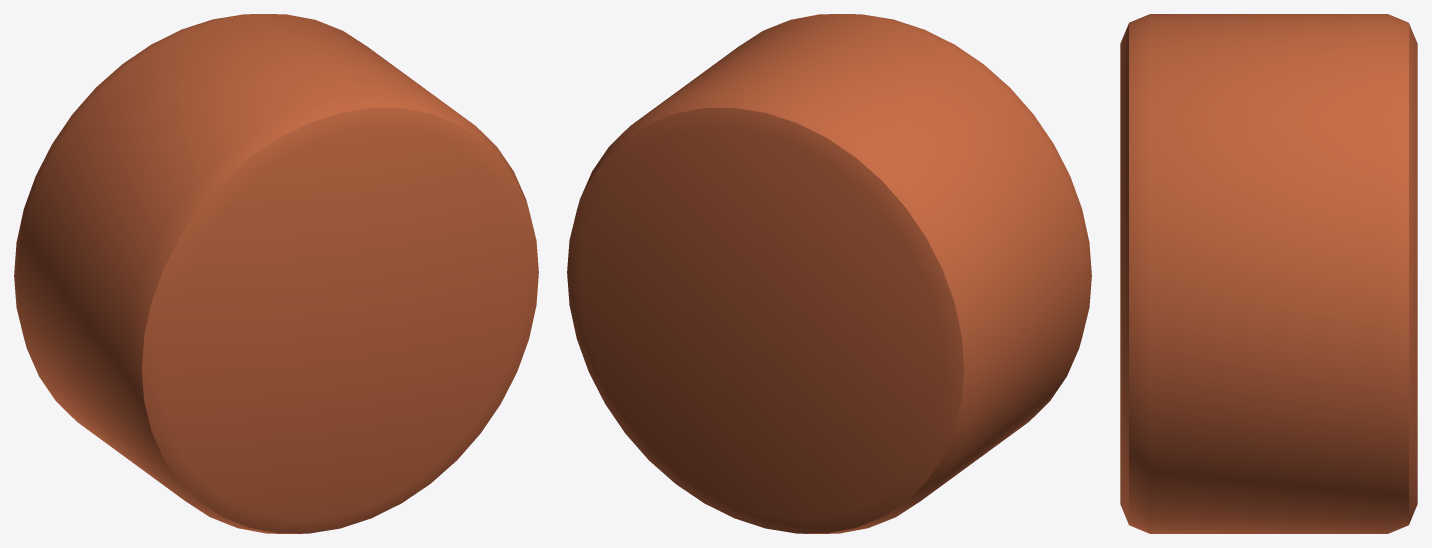
File: angle_grinder_spindle_lock.glb
The picture shows the model from 3 angles, left to right: view 1: azimuth 30°, elevation 25°; view 2: azimuth 150°, elevation 25°; view 3: azimuth 270°, elevation 25°; orthographic projection. The views are drawn at different scales.
Parts seen in each view (by area): view 1: angle_grinder_spindle_lock; view 2: angle_grinder_spindle_lock; view 3: angle_grinder_spindle_lock.
Part boxes in pixels (bbox=[...]): angle_grinder_spindle_lock: bbox=[14, 14, 538, 533]; angle_grinder_spindle_lock: bbox=[567, 14, 1091, 533]; angle_grinder_spindle_lock: bbox=[1120, 14, 1417, 533].
Size of the model in its own units: 0.014 by 0.014 by 0.008.
